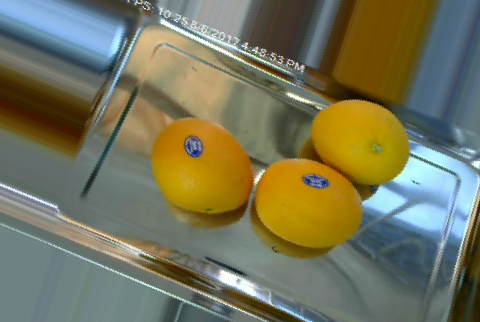Orange: (152, 116, 254, 213), (255, 158, 363, 248), (310, 99, 411, 186)
